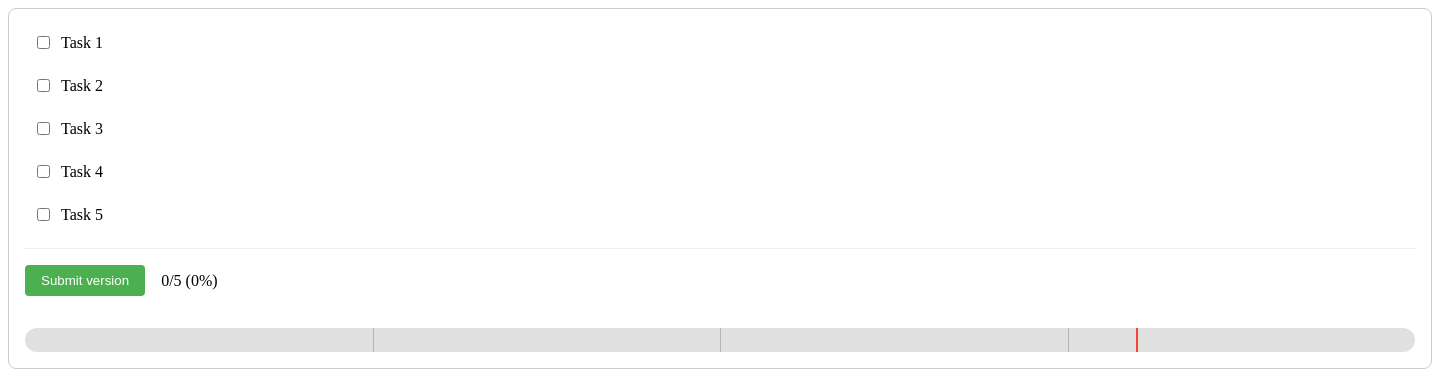
Scenario: ChecklistProgress › shows 2/5 (40%) after ticking 2 boxes and submitting
Click the checkbox labelled "Task 1" at (44, 42), box [37,36,50,49]
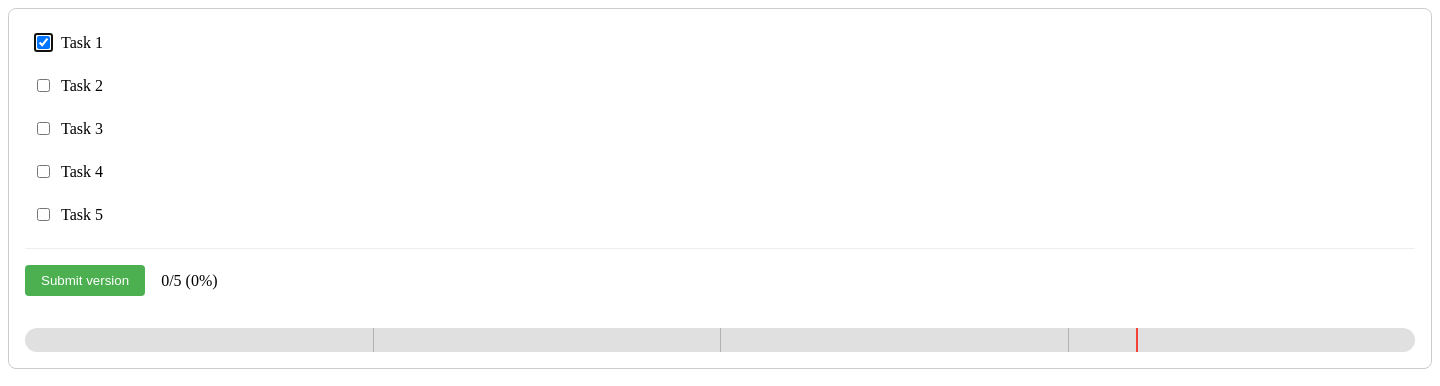
Click the checkbox labelled "Task 2" at (44, 86), box [37,79,50,92]
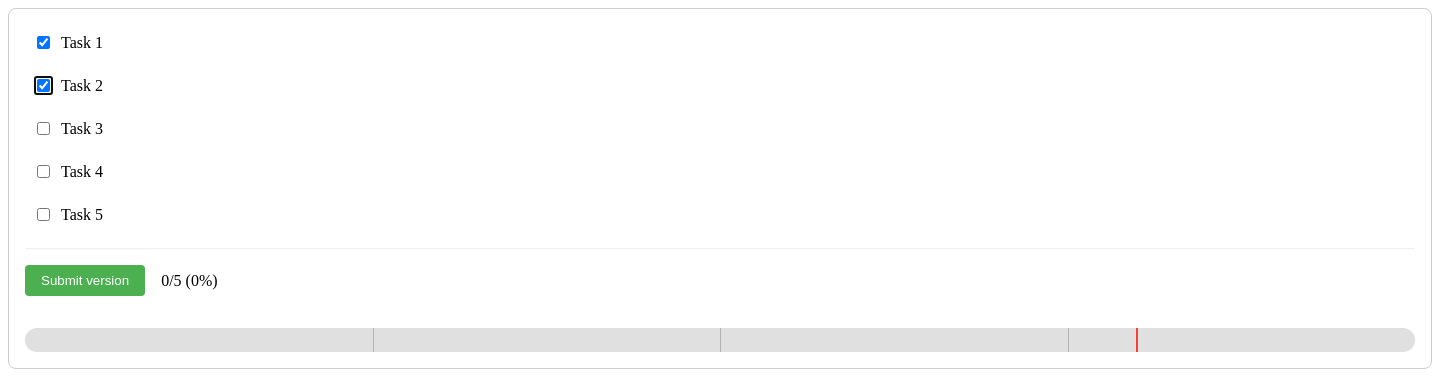
Click the button "Submit version" at (85, 280), box [25,265,145,296]
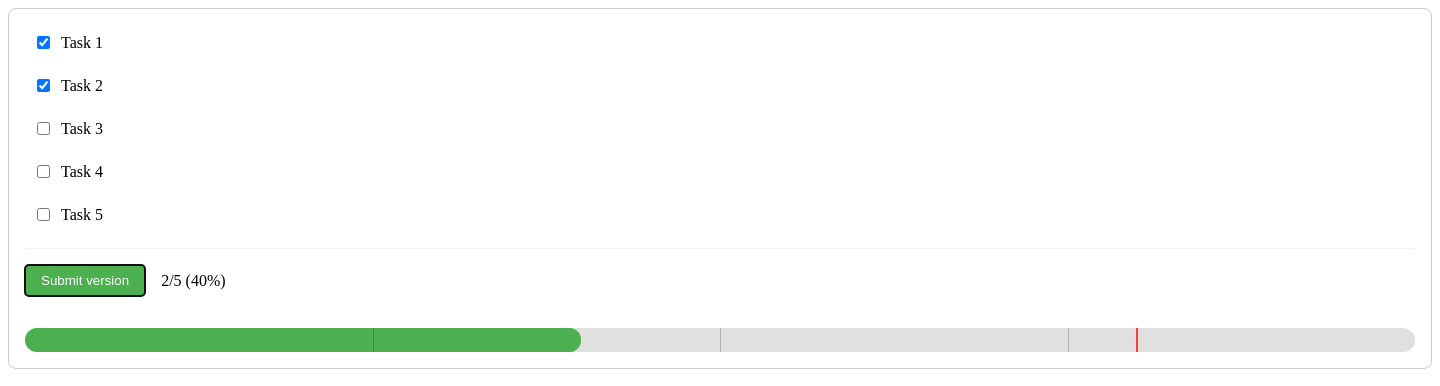
expect the text with test id "progress-label" reads "2/5 (40%)": met, box [161,272,226,288]
